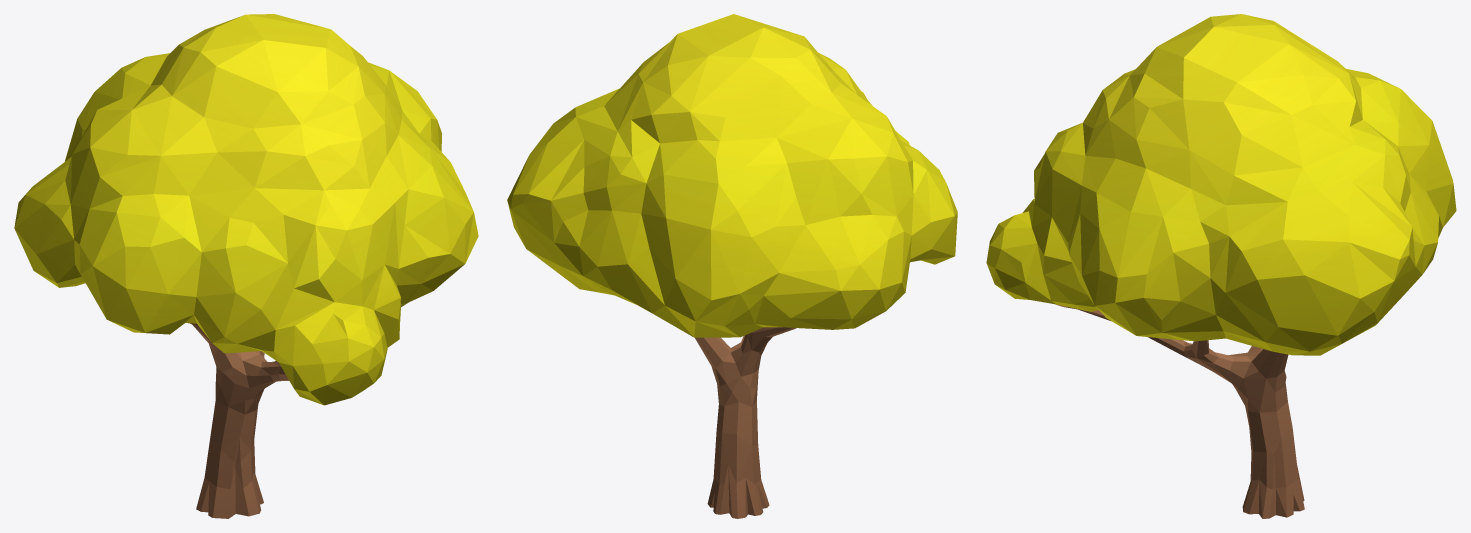
Rendered from Tree_common_Yellow_02.fbx.
3 renders of one model, left to right at view 1: azimuth 30°, elevation 25°; view 2: azimuth 150°, elevation 25°; view 3: azimuth 270°, elevation 25°, orthographic. The views are drawn at different scales.
Visible parts, largest first — view 1: Tree_common_Yellow_02; view 2: Tree_common_Yellow_02; view 3: Tree_common_Yellow_02.
Boxes of the visible parts, x1=… form: Tree_common_Yellow_02: x1=14, y1=14, x2=478, y2=518; Tree_common_Yellow_02: x1=507, y1=14, x2=957, y2=518; Tree_common_Yellow_02: x1=986, y1=14, x2=1456, y2=518.
Bounding box in the file's own units: 837 × 1003 × 890.
